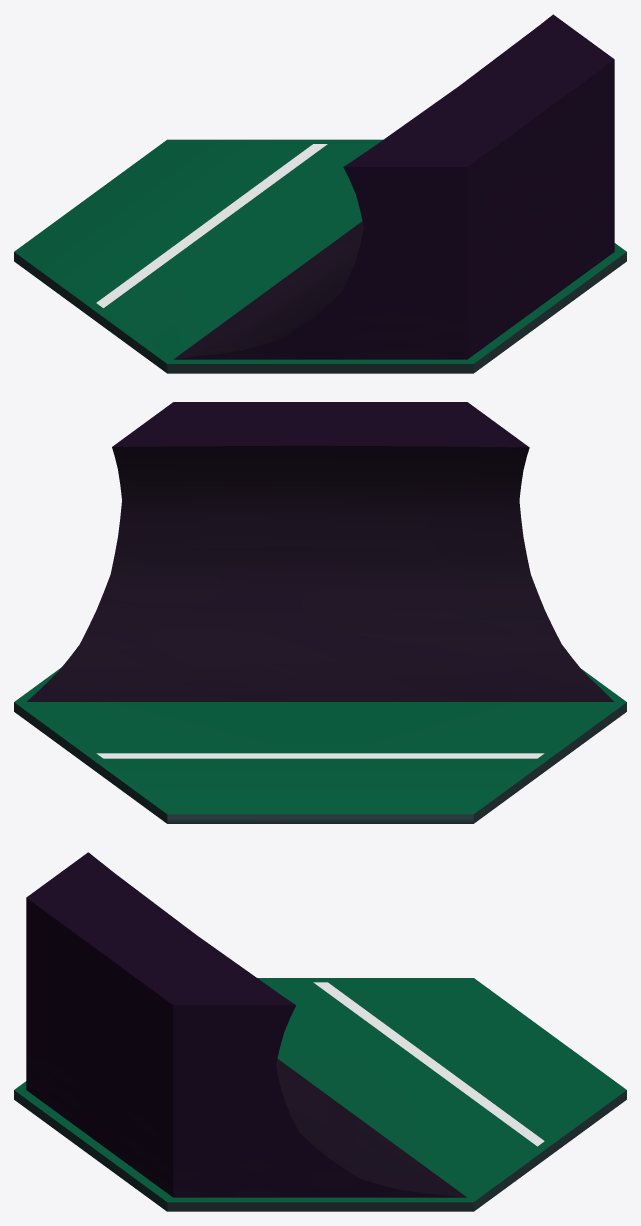
Rendered from left5.fbx.
3 views of the same model, one above another, from view 1: azimuth 30°, elevation 25°; view 2: azimuth 150°, elevation 25°; view 3: azimuth 270°, elevation 25° (orthographic).
Parts seen in each view (by area): view 1: left5; view 2: left5; view 3: left5.
Boxes of the visible parts, x1,y1,x2,y2 form: left5: [14, 14, 626, 373]; left5: [14, 402, 626, 823]; left5: [14, 852, 626, 1211].
Size of the model in its own units: 50.01 by 21 by 57.75.
Materials: 1 (1 with a texture image).
